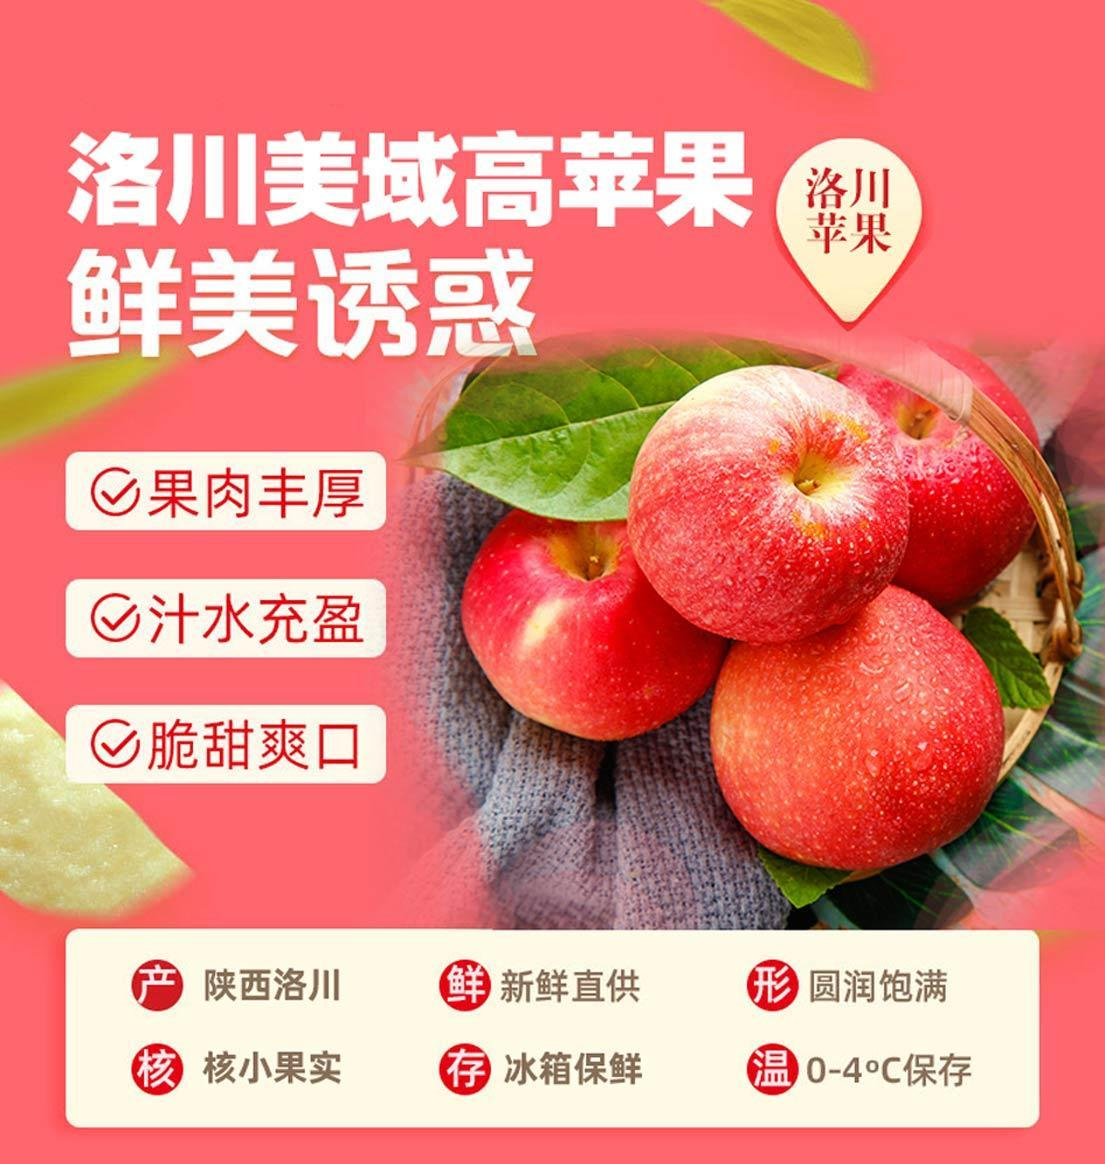apple: (707, 591, 1006, 872), (620, 361, 885, 647), (459, 497, 728, 743), (835, 340, 1041, 611)
